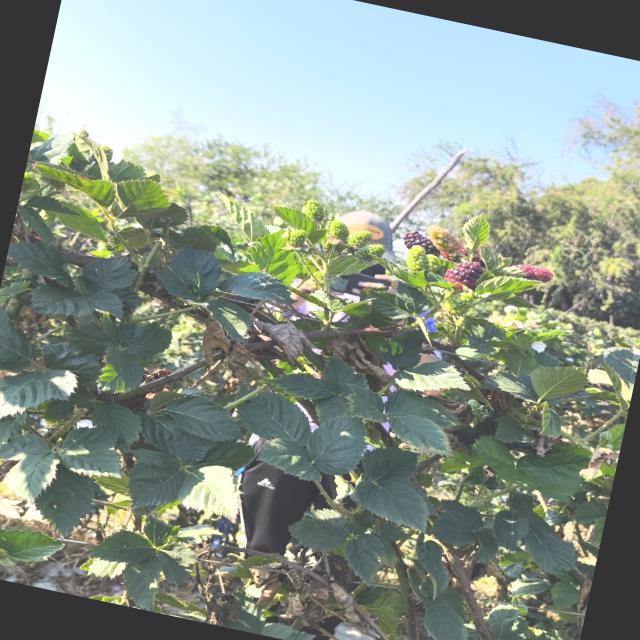marron: (444, 261, 482, 289), (403, 231, 439, 257), (514, 264, 553, 282)
verde: (426, 224, 461, 252), (302, 199, 327, 223), (406, 245, 428, 271), (283, 229, 306, 249), (328, 220, 349, 241), (347, 230, 371, 247), (425, 254, 441, 273), (366, 243, 385, 257)
